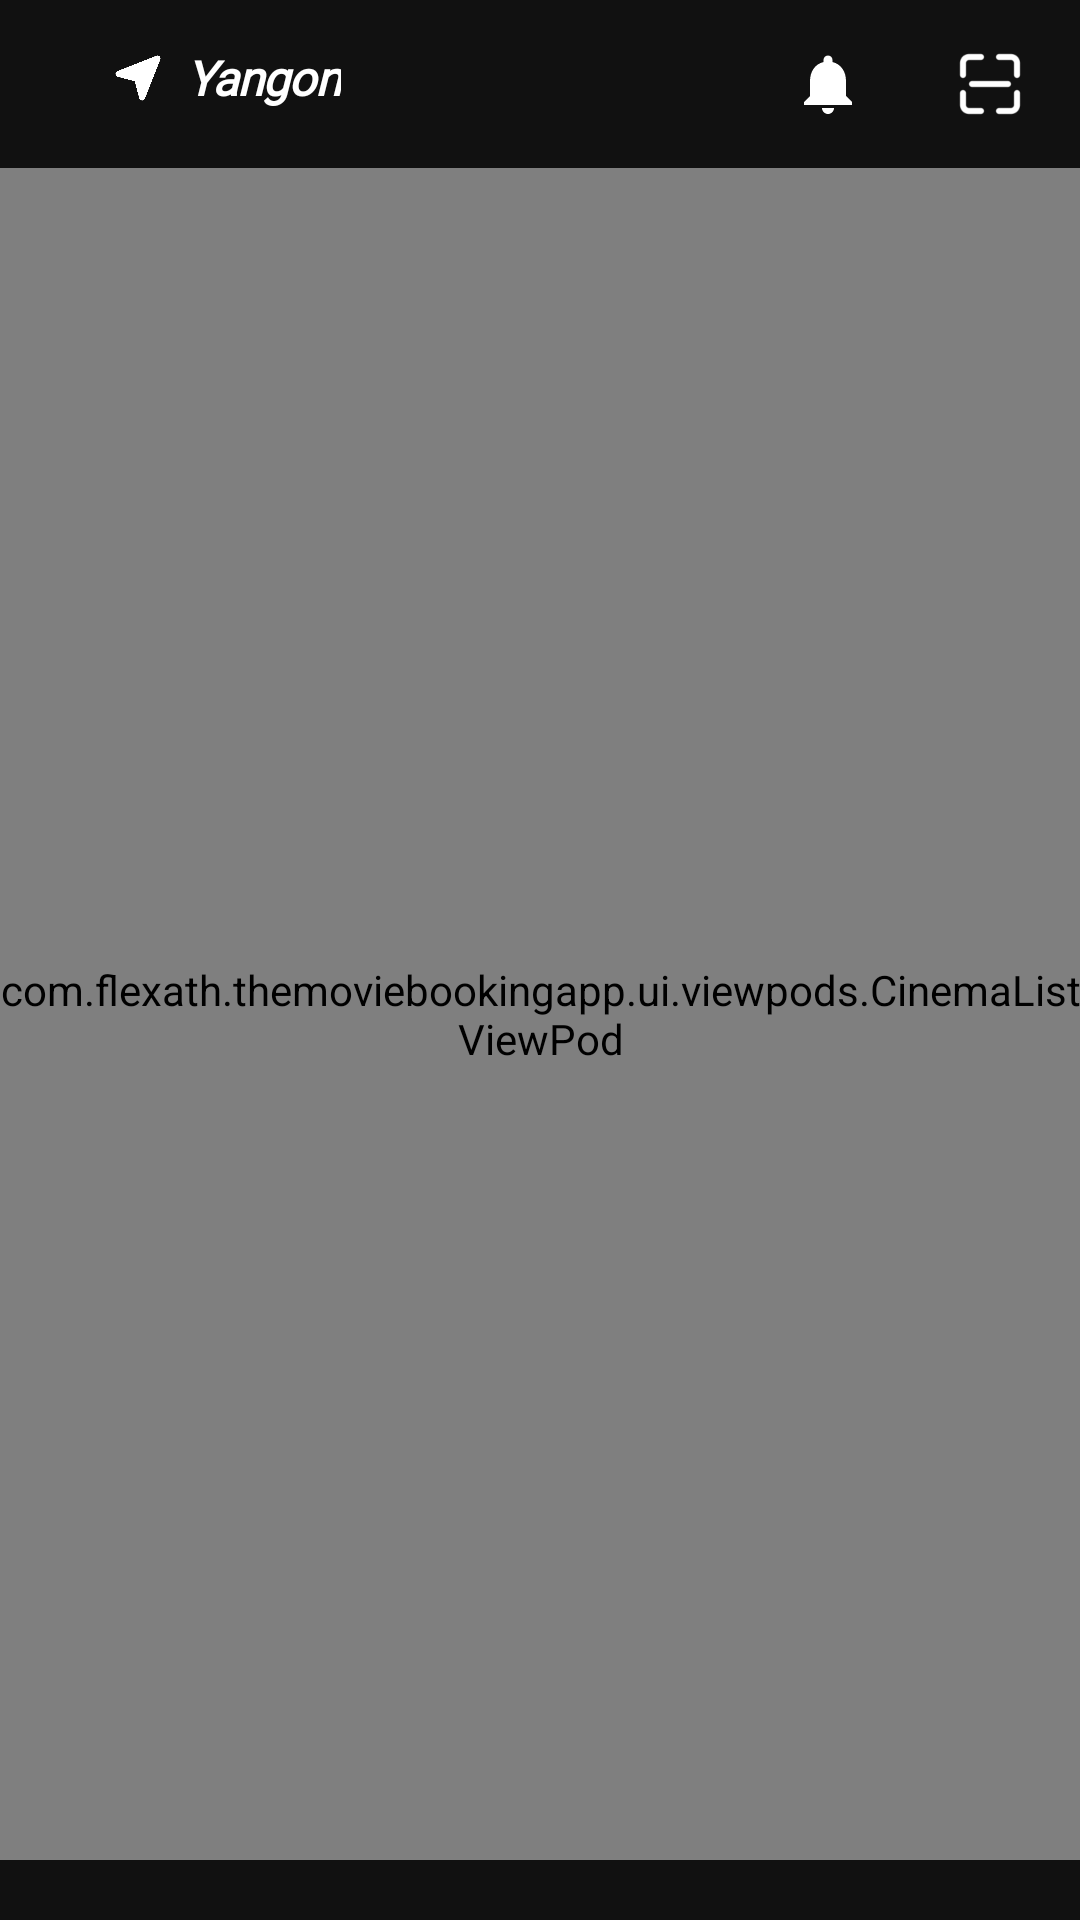

Icons on this 1080px x 1920px Android screen, each with the point to tap as (x,y):
navigation: (138,78)
notifications: (828,84)
scanning: (990,84)
